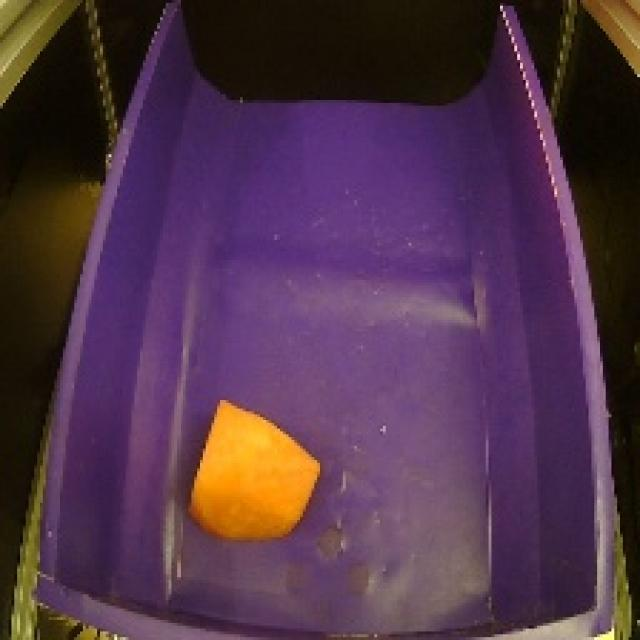carrots: (177, 392, 330, 547)
